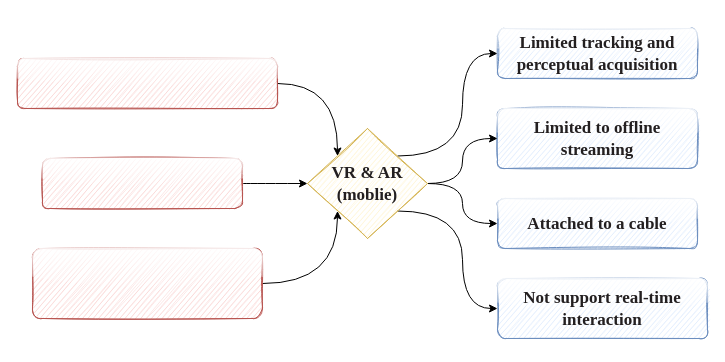
The diagram is 725 pixels wide and 362 high, and some of its shapes have lost their labels. Each missing label, with the centre of its shape:
"Intensive computational capability" belongs at pixel 147 83.
"Massive communucation bendwidth" belongs at pixel 147 283.
"Ultralow latency" belongs at pixel 142 183.
